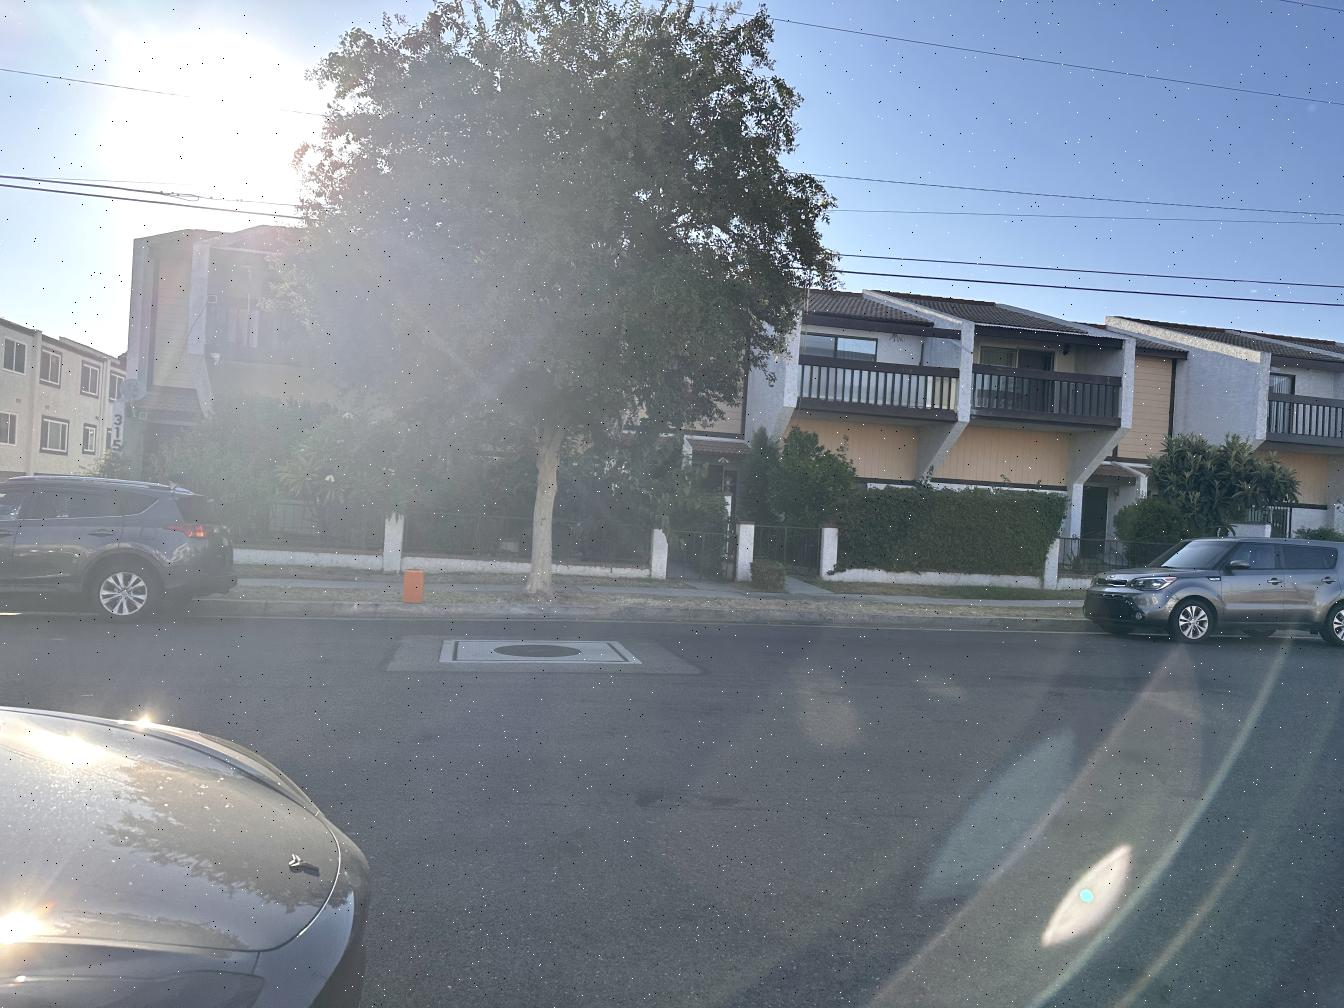curbs-laRr: (236, 597, 587, 623), (839, 611, 1089, 636), (594, 605, 833, 630)
orange box: (403, 570, 426, 604)
